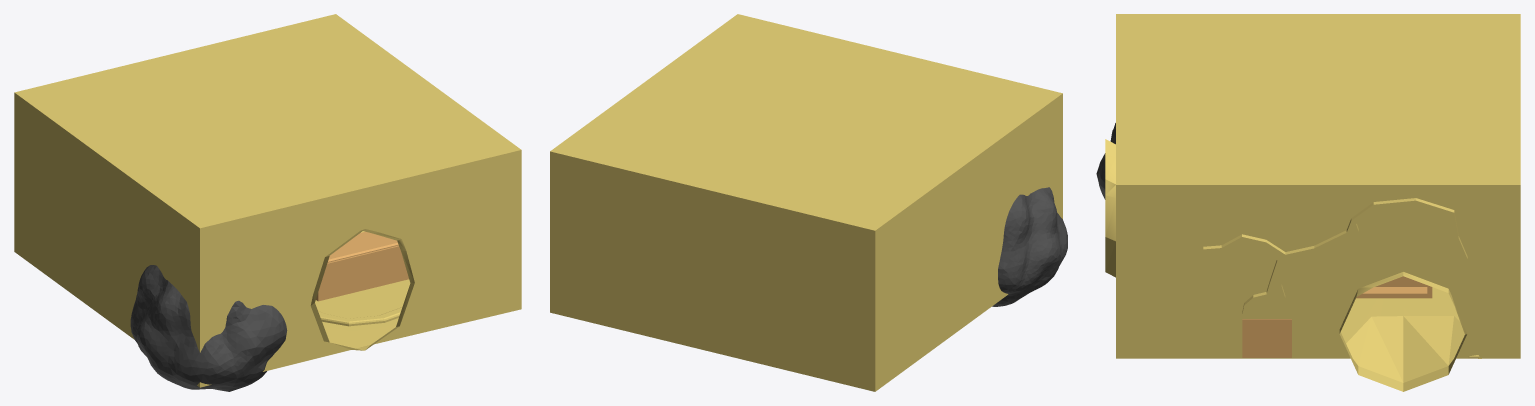
File: Floor1_EntranceMesh.gltf
3 views of the same model, side by side, from view 1: azimuth 30°, elevation 25°; view 2: azimuth 150°, elevation 25°; view 3: azimuth 270°, elevation 25° (orthographic). The views are drawn at different scales.
Parts seen in each view (by area): view 1: Floor1_EntranceMesh, Rubble, Desk; view 2: Floor1_EntranceMesh, Rubble; view 3: Floor1_EntranceMesh, Desk, Rubble.
Boxes of the visible parts, x1,y1,x2,y2 form: Floor1_EntranceMesh: (14, 14, 521, 387); Rubble: (130, 265, 287, 391); Desk: (316, 231, 408, 301); Floor1_EntranceMesh: (550, 14, 1062, 391); Rubble: (992, 187, 1067, 306); Floor1_EntranceMesh: (1105, 14, 1520, 391); Desk: (1242, 276, 1432, 357); Rubble: (1096, 123, 1115, 199).
Size of the model in its own units: 21.02 by 10.61 by 19.92.
